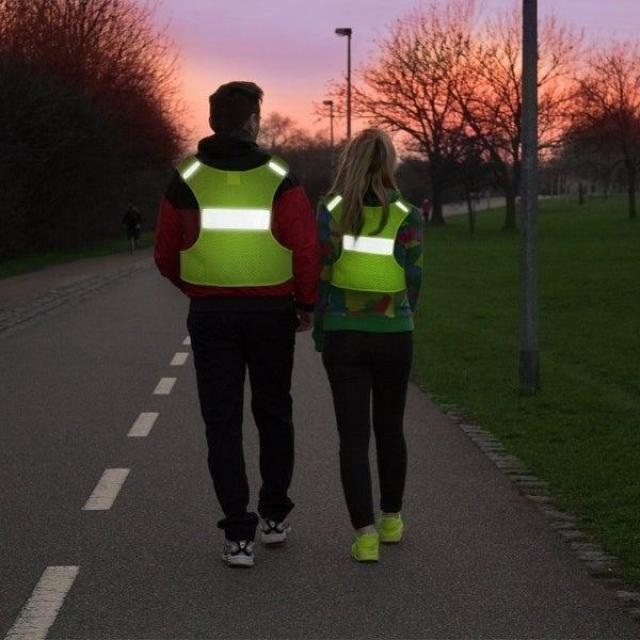no-helmet: (204, 78, 265, 140), (342, 126, 398, 188)
vest: (164, 140, 304, 296), (316, 184, 428, 302)
